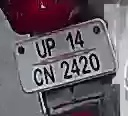0: (90, 53, 100, 72)
1: (66, 31, 75, 52)
2: (79, 56, 92, 75), (59, 62, 71, 81)
4: (73, 30, 87, 50), (71, 57, 80, 78)
C: (31, 67, 44, 88)
N: (43, 65, 57, 83)
P: (45, 36, 57, 56)
U: (34, 40, 48, 58)
